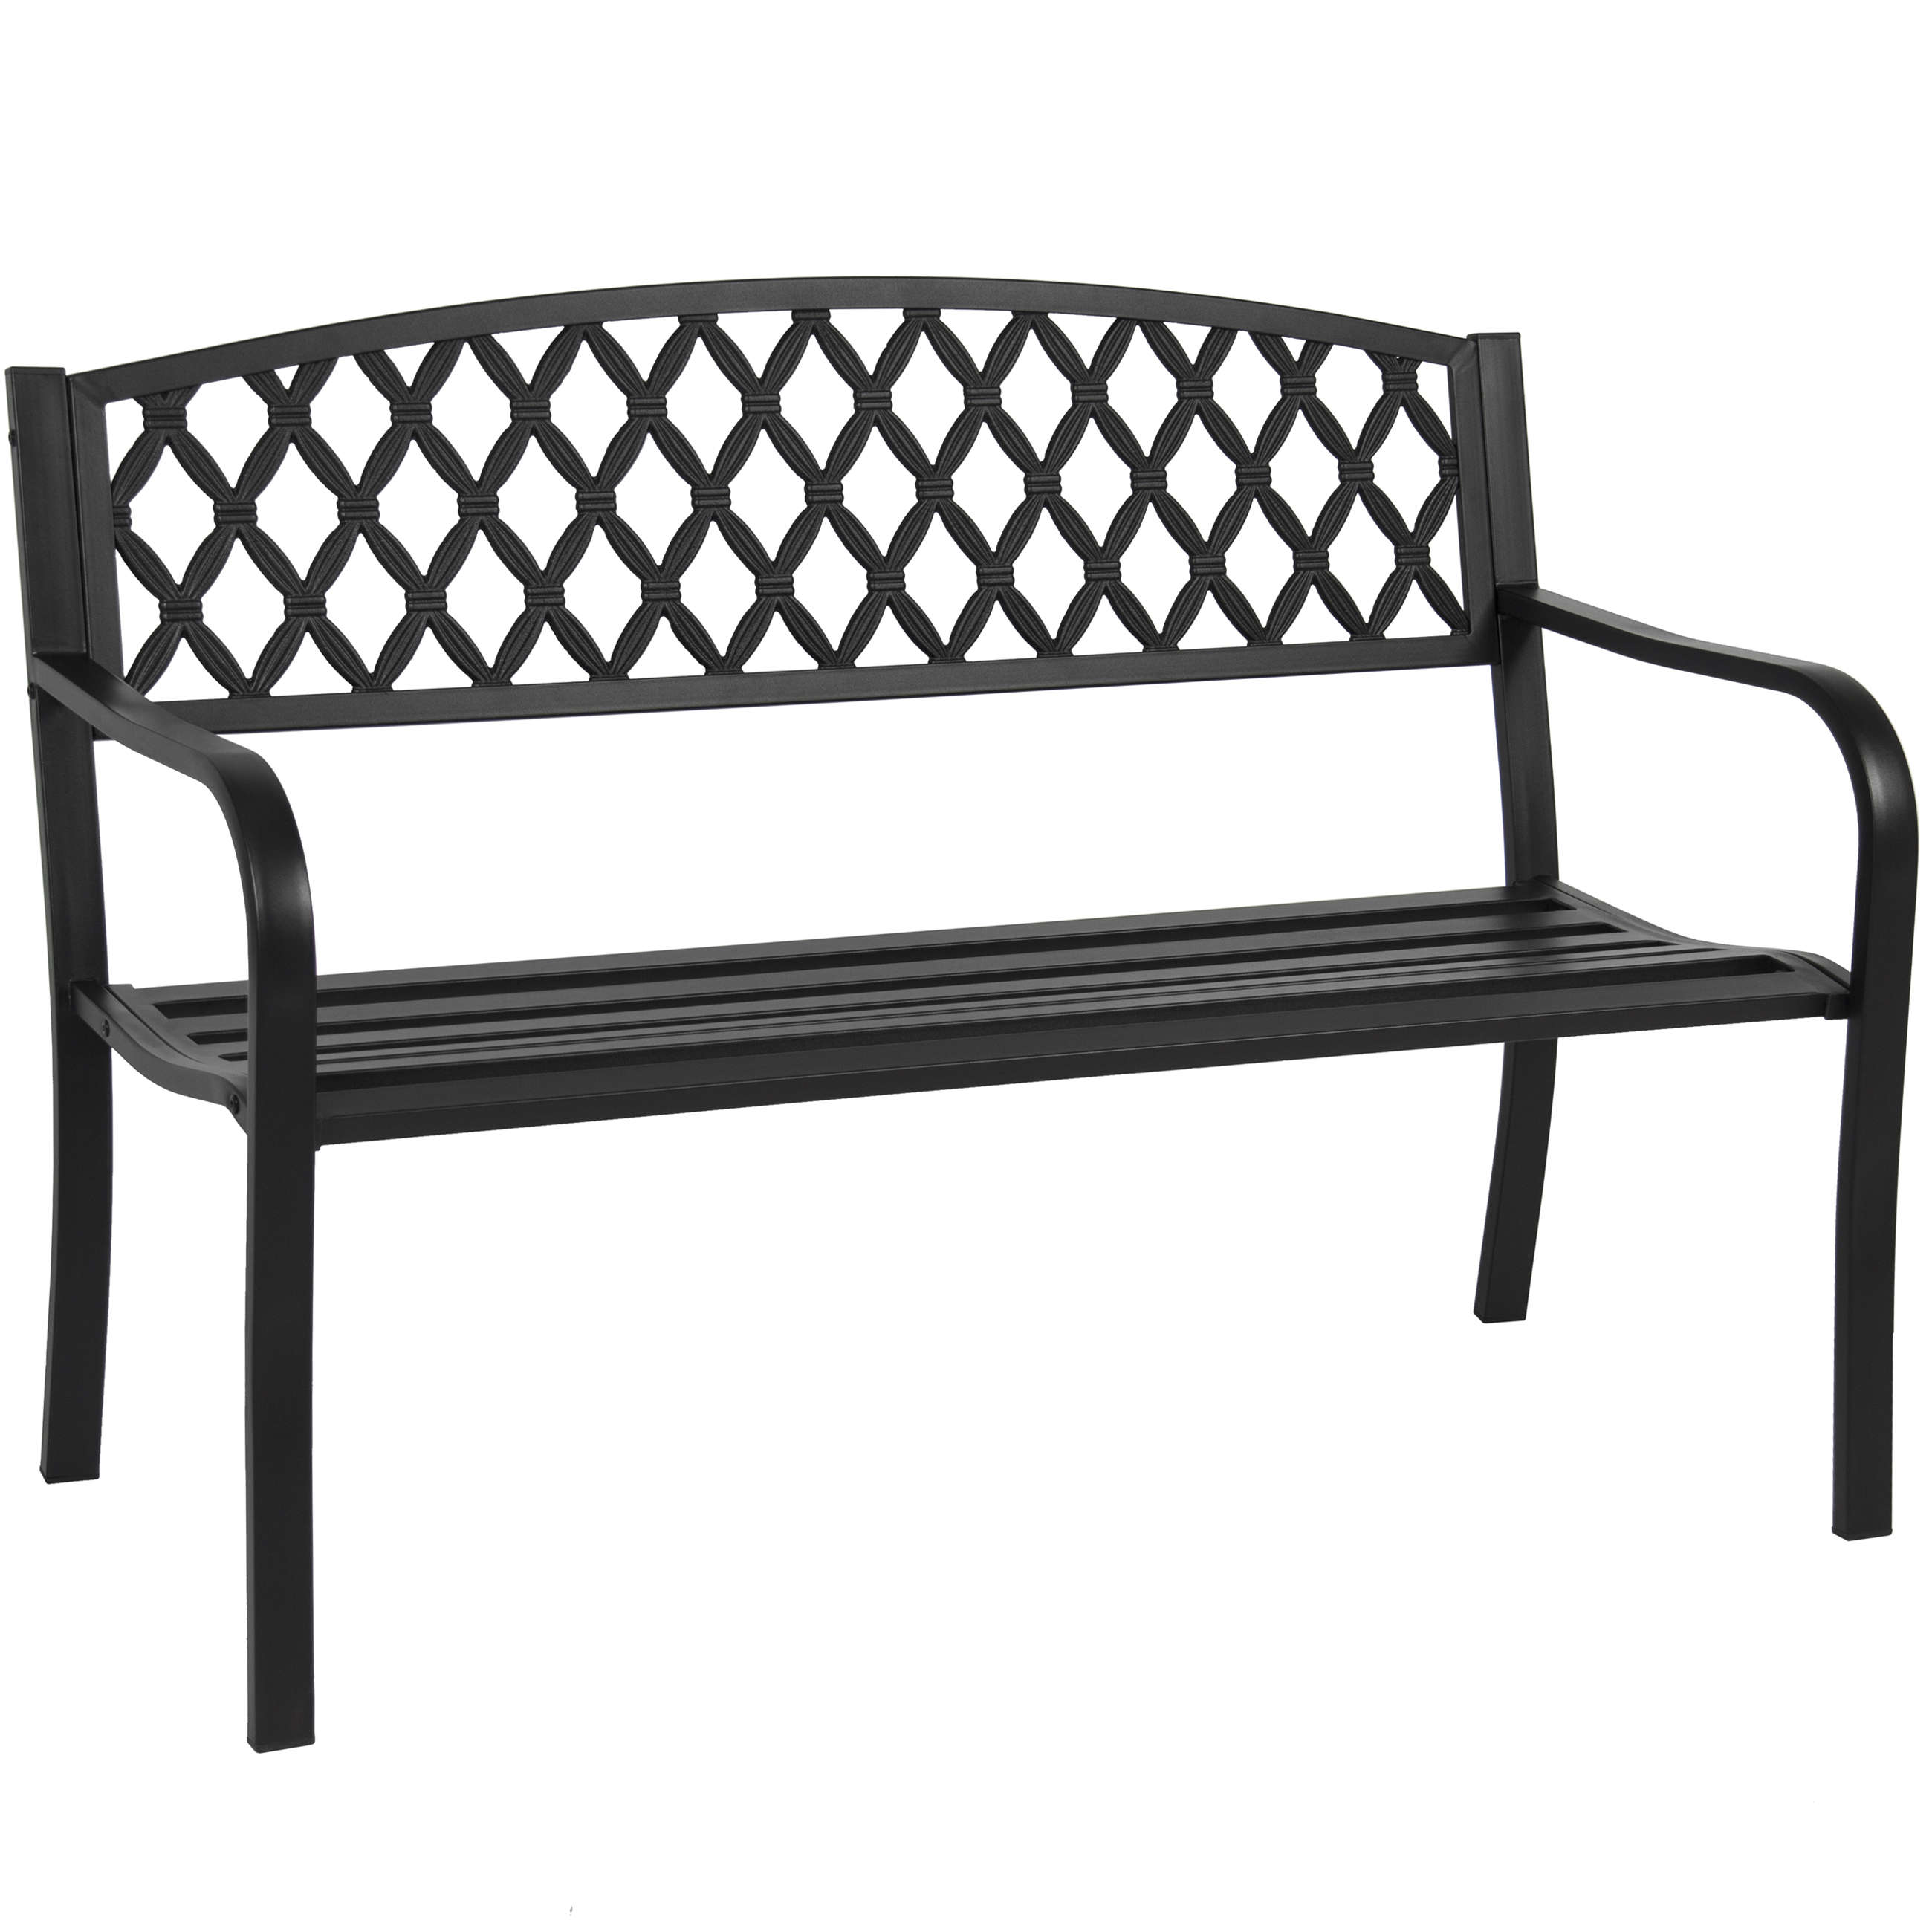chairs: (4, 267, 1932, 1767)
